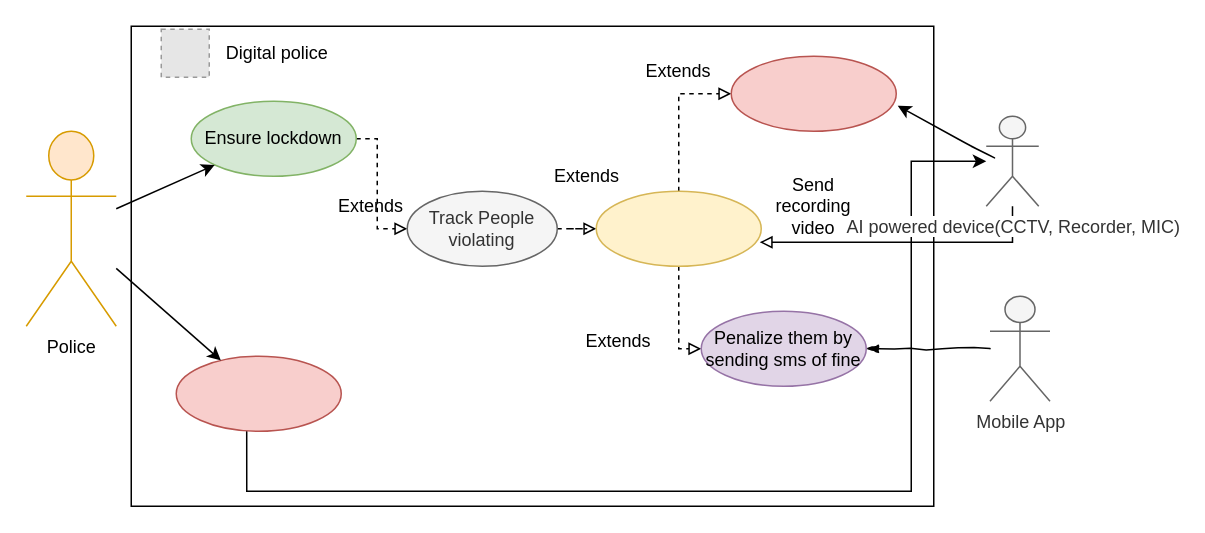
This 1205x533 diagram has some shape labels left out. Grey dashed boxes stand in for pictures. Each missing label, with the box of its shape:
Ask them to go back: alert: (730, 55, 896, 131)
Detect Crimes: (175, 355, 341, 431)
Image of people voilating: (595, 190, 761, 266)
